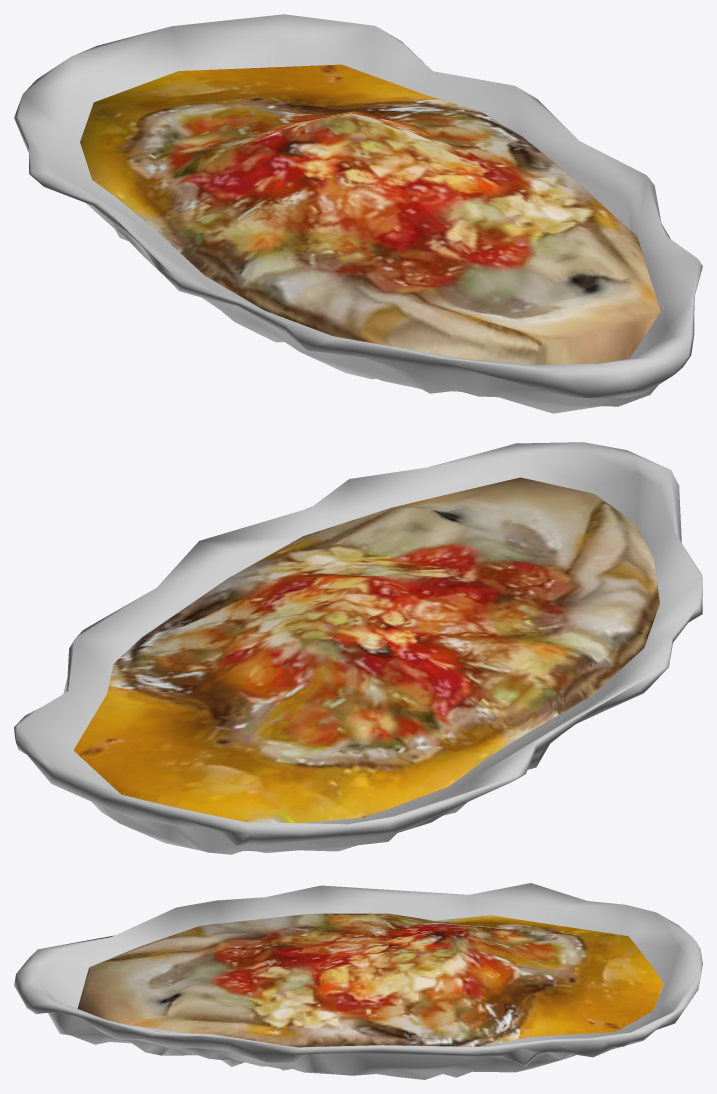
Rendered from ref_scallop.fbx.
3 views of the same model, one above another, from view 1: azimuth 30°, elevation 25°; view 2: azimuth 150°, elevation 25°; view 3: azimuth 270°, elevation 25° (orthographic). The views are drawn at different scales.
Visible parts, largest first — view 1: ref_scallop_part1, ref_scallop_part0; view 2: ref_scallop_part1, ref_scallop_part0; view 3: ref_scallop_part1, ref_scallop_part0.
Boxes of the visible parts, x1,y1,x2,y2 form: ref_scallop_part1: (80,64,660,364); ref_scallop_part0: (14,14,702,413); ref_scallop_part1: (73,477,659,823); ref_scallop_part0: (14,442,702,854); ref_scallop_part1: (77,913,663,1047); ref_scallop_part0: (14,883,702,1079).
Size of the model in its own units: 56.77 by 17.7 by 100.
